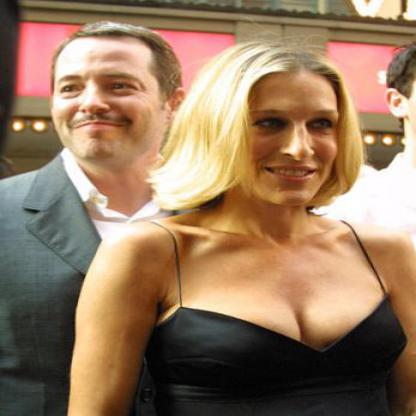face: (214, 52, 354, 209), (45, 28, 174, 164)
